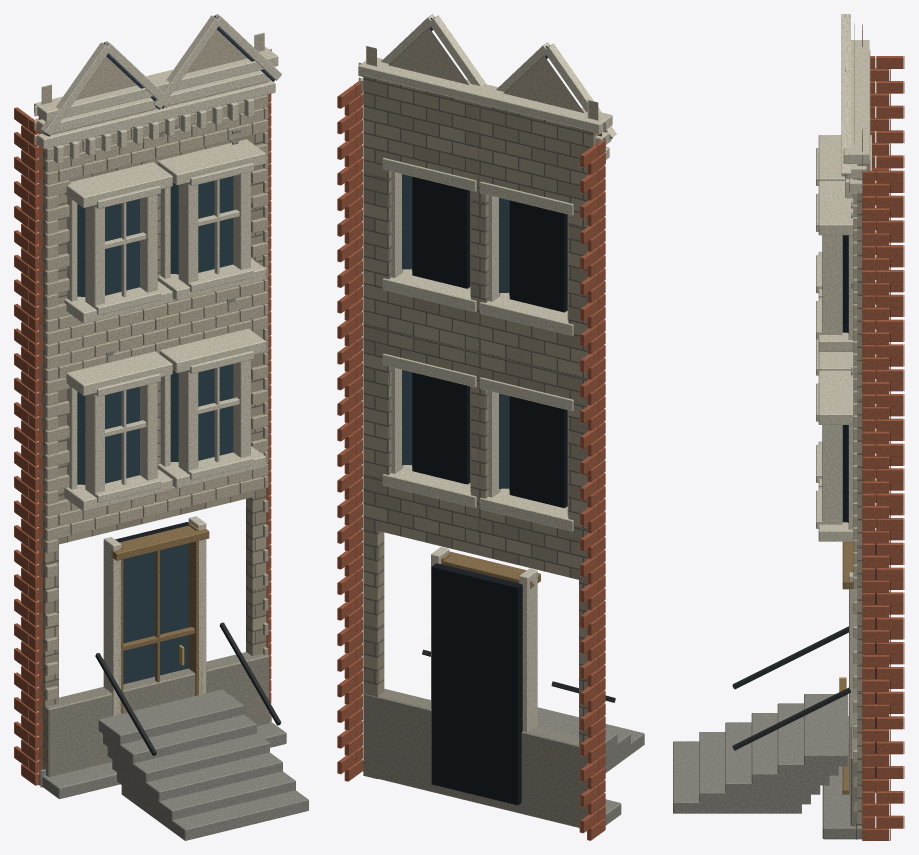
Rendered from RUNDWN12_lod0.glb.
The picture shows the model from 3 angles, left to right: view 1: azimuth 30°, elevation 25°; view 2: azimuth 150°, elevation 25°; view 3: azimuth 270°, elevation 25°; orthographic projection. The views are drawn at different scales.
Parts seen in each view (by area): view 1: RUNDWN12_FRONT_LOD0; view 2: RUNDWN12_FRONT_LOD0; view 3: RUNDWN12_FRONT_LOD0.
Part boxes in pixels (box(x1,y1,x2,y2)): RUNDWN12_FRONT_LOD0: box(14, 14, 308, 840); RUNDWN12_FRONT_LOD0: box(337, 14, 644, 840); RUNDWN12_FRONT_LOD0: box(673, 14, 904, 840).
Bounding box in the file's own units: 3.44 × 10.15 × 2.88.
Materials: 18 (15 with a texture image).
